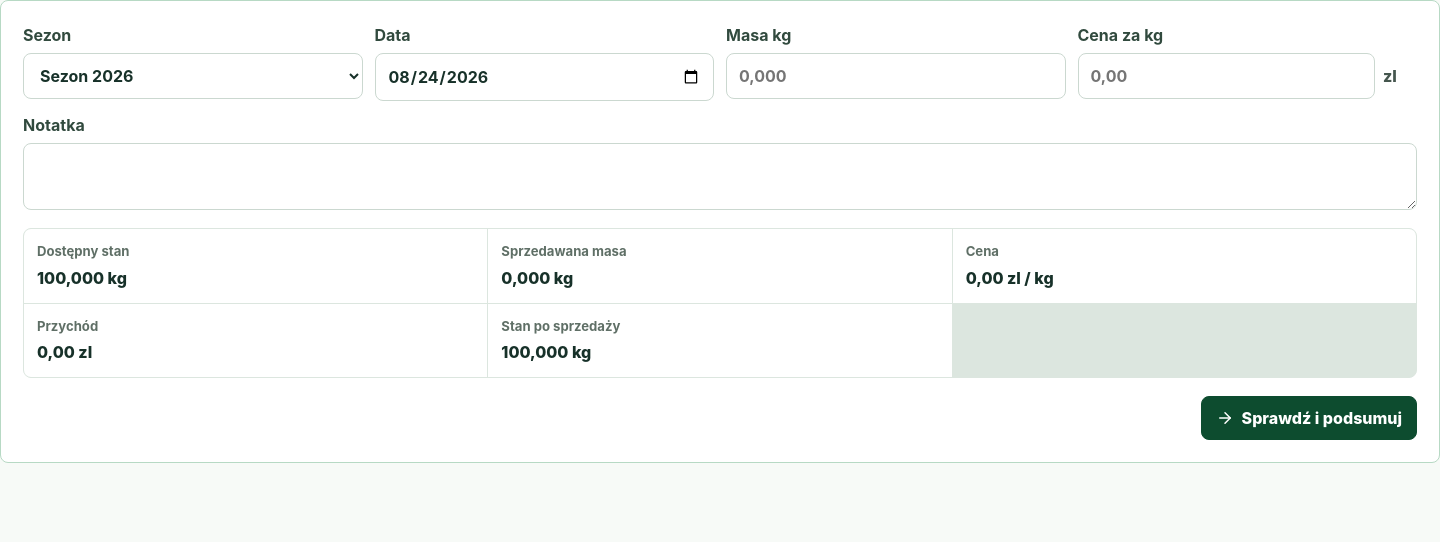
OrdinarySaleForm › marks cached or pending stock as potentially stale
Select "Sezon 2025" in the dropdown labelled "Sezon". click: (193, 76)
box: [23,53,362,99]
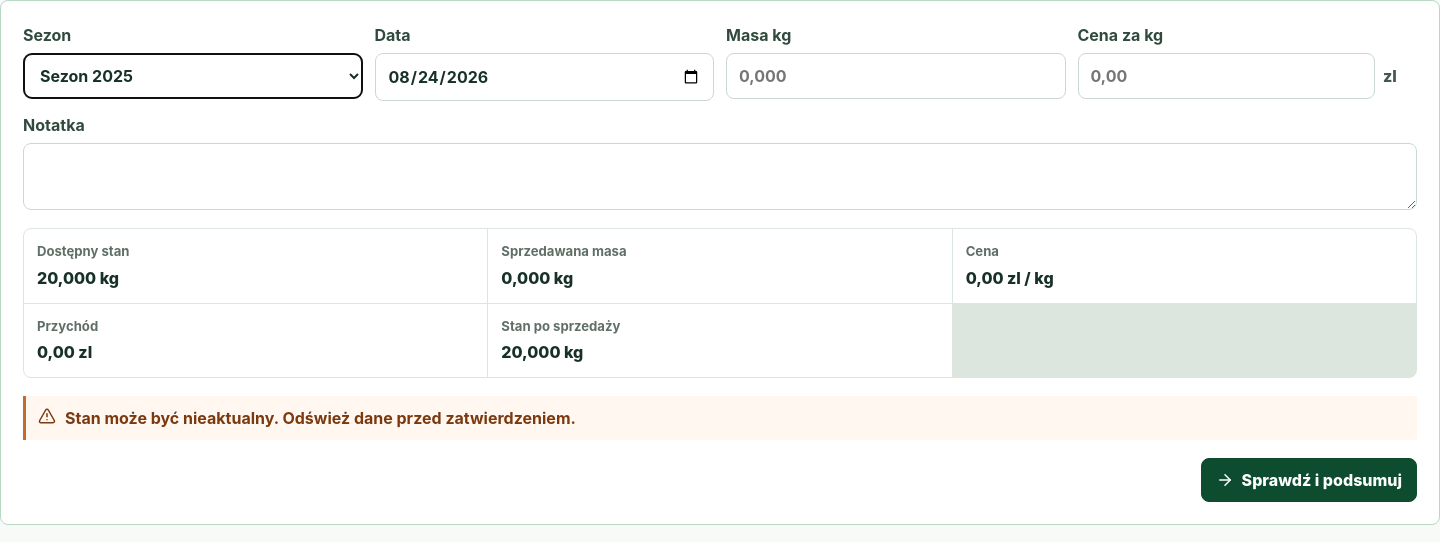
Expected: the text "20,000 kg" is shown 2 times, [37,268,119,288]; [501,342,583,362]
Result: the text "Stan może być nieaktualny. Odśwież dane przed zatwierdzeniem." is shown at [23,396,1417,440]
